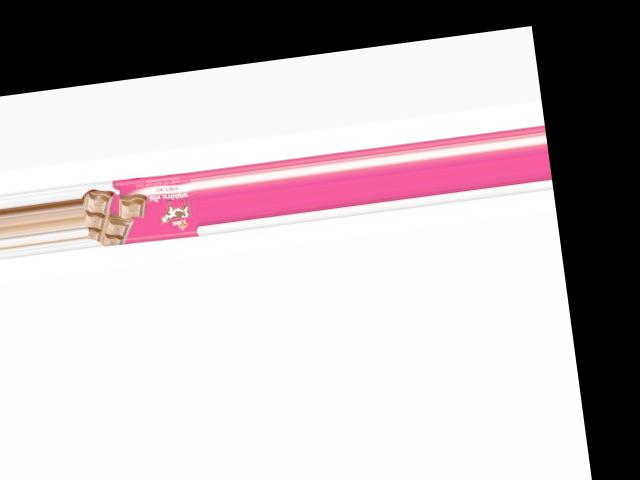chocolate: (82, 170, 200, 249)
